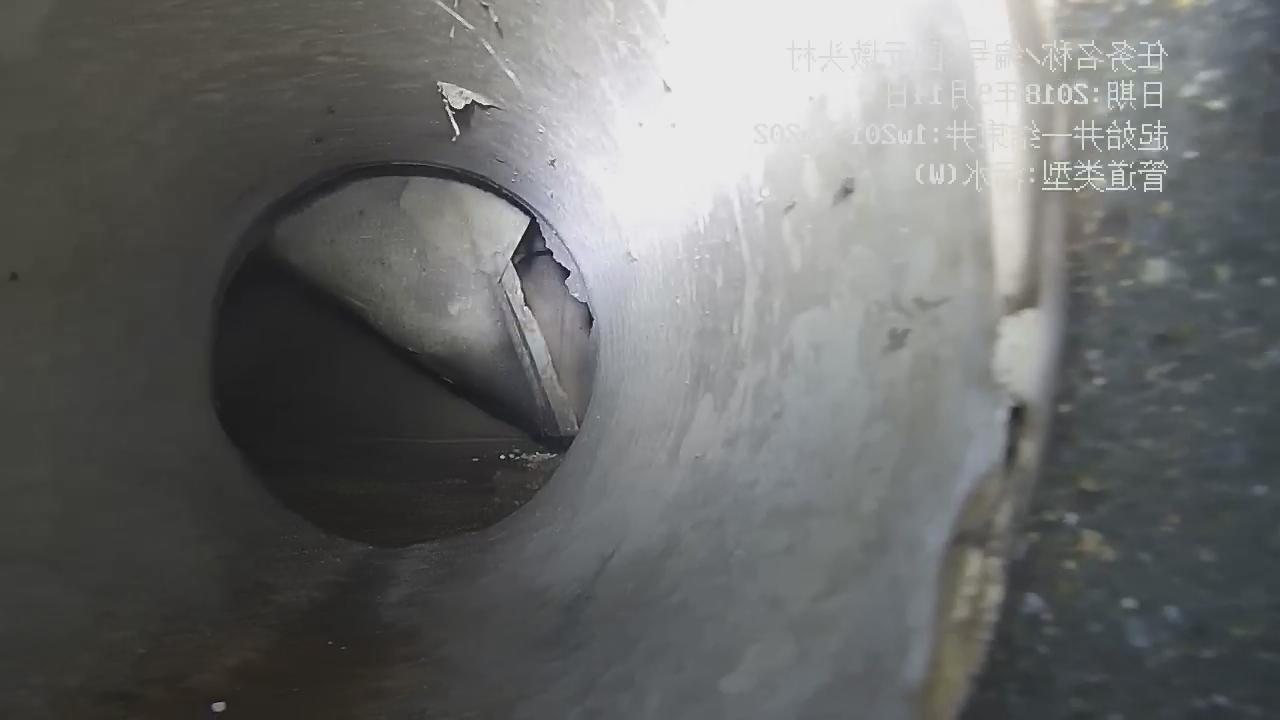PL: (208, 158, 616, 454)
